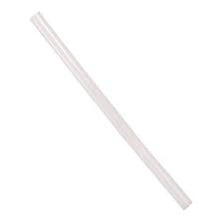drinking_straw: (25, 7, 197, 214)
